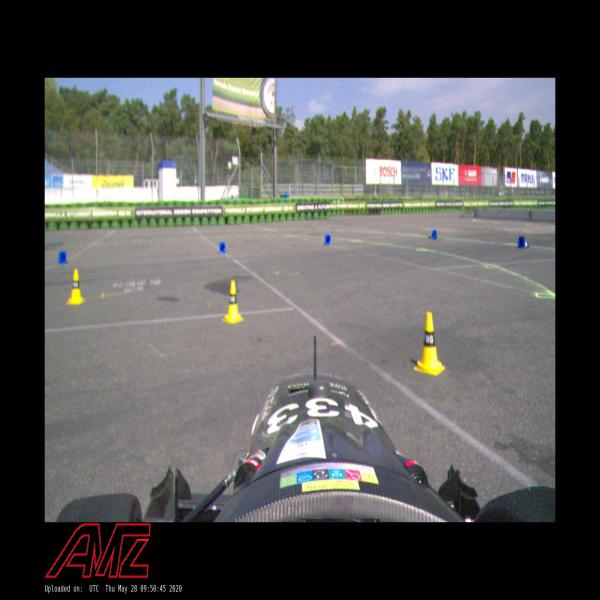blue_cone: (57, 250, 68, 264), (517, 236, 529, 248), (429, 229, 438, 240), (219, 242, 226, 254), (325, 233, 331, 245)
yellow_cone: (414, 310, 445, 376), (221, 280, 244, 324), (66, 269, 86, 304)
